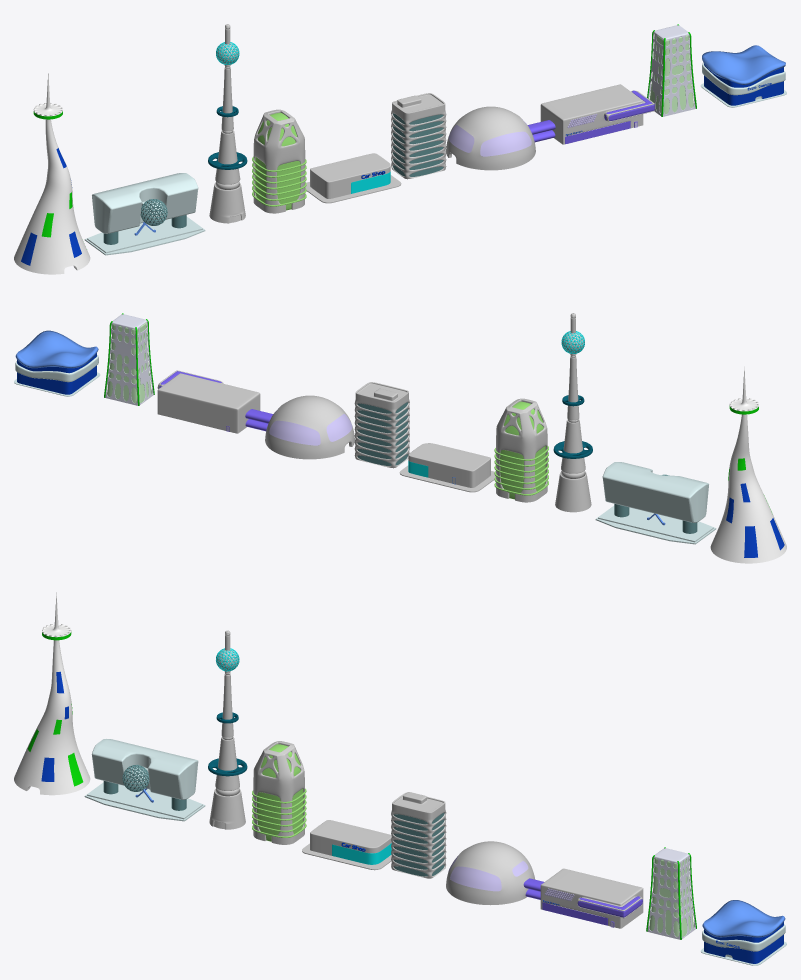
Rendered from fa_building0.fbx.
3 views of the same model, one above another, from view 1: azimuth 30°, elevation 25°; view 2: azimuth 150°, elevation 25°; view 3: azimuth 330°, elevation 25° (orthographic).
Visible parts, largest first — view 1: fa_museum, fa_tower1_body, fa_building0, fa_building1, fa_tower_body0, fa_building2_frame0, fa_building3_window0, fa_shop0, fa_expo_centre_roof, fa_building1_glass, fa_building3_wall0, fa_building2_glass (+14 smaller); view 2: fa_museum, fa_tower1_body, fa_building0, fa_building1, fa_tower_body0, fa_building2_frame0, fa_building3_window0, fa_shop0, fa_building3_wall0, fa_expo_centre_roof, fa_building1_glass, fa_building3_ground1 (+10 smaller); view 3: fa_museum, fa_tower1_body, fa_building0, fa_building1, fa_tower_body0, fa_building2_frame0, fa_building3_window0, fa_expo_centre_roof, fa_building1_glass, fa_building3_wall0, fa_shop0, fa_building2_glass (+8 smaller).
Boxes of the visible parts, x1,y1,x2,y2 form: fa_museum: [446, 84, 654, 170]; fa_tower1_body: [14, 73, 90, 274]; fa_building0: [253, 109, 305, 213]; fa_building1: [391, 93, 446, 179]; fa_tower_body0: [209, 24, 245, 223]; fa_building2_frame0: [648, 25, 695, 116]; fa_building3_window0: [92, 188, 197, 232]; fa_shop0: [310, 153, 390, 198]; fa_expo_centre_roof: [702, 45, 785, 84]; fa_building1_glass: [393, 113, 443, 176]; fa_building3_wall0: [92, 173, 198, 233]; fa_building2_glass: [649, 34, 693, 114]; fa_museum: [157, 370, 354, 459]; fa_tower1_body: [710, 366, 786, 563]; fa_building0: [496, 398, 547, 502]; fa_building1: [354, 382, 409, 468]; fa_tower_body0: [555, 313, 591, 512]; fa_building2_frame0: [105, 314, 153, 405]; fa_building3_window0: [603, 470, 708, 521]; fa_shop0: [408, 443, 490, 487]; fa_building3_wall0: [602, 462, 708, 522]; fa_expo_centre_roof: [15, 330, 98, 368]; fa_building1_glass: [357, 402, 407, 465]; fa_building3_ground1: [598, 506, 713, 542]; fa_museum: [446, 841, 643, 928]; fa_tower1_body: [14, 592, 90, 795]; fa_building0: [253, 741, 304, 844]; fa_building1: [391, 792, 446, 878]; fa_tower_body0: [209, 630, 245, 829]; fa_building2_frame0: [647, 848, 695, 939]; fa_building3_window0: [92, 754, 198, 798]; fa_expo_centre_roof: [702, 900, 785, 937]; fa_building1_glass: [393, 813, 444, 876]; fa_building3_wall0: [91, 739, 198, 799]; fa_shop0: [310, 820, 391, 855]; fa_building2_glass: [649, 857, 693, 936].
Bounding box in the file's own units: 73197 × 18640 × 7560.
Materials: 3 (3 with a texture image).
